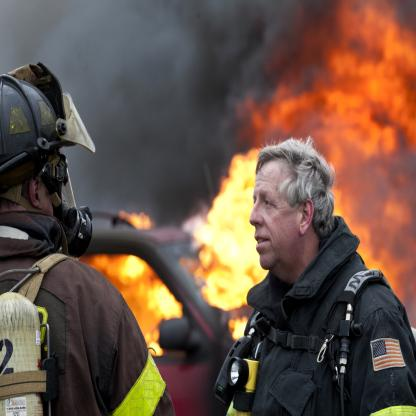Helmet: (0, 80, 72, 246)
